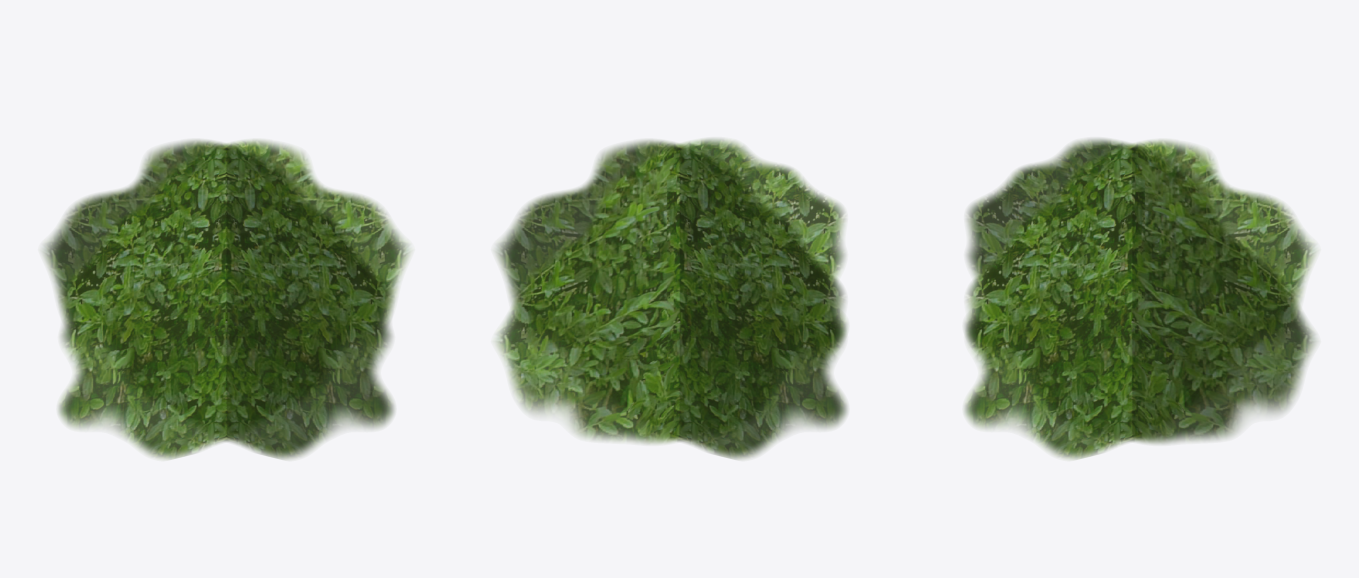
The model's file is bush.glb.
3 views of the same model, side by side, from view 1: azimuth 30°, elevation 25°; view 2: azimuth 150°, elevation 25°; view 3: azimuth 270°, elevation 25° (orthographic).
Visible parts, largest first — view 1: bush; view 2: bush; view 3: bush.
Boxes of the visible parts, x1,y1,x2,y2 form: bush: (42,140,410,459); bush: (495,139,847,459); bush: (964,139,1316,459).
Size of the model in its own units: 1.1 by 0.85 by 0.9526.
1 material, 1 textured.
